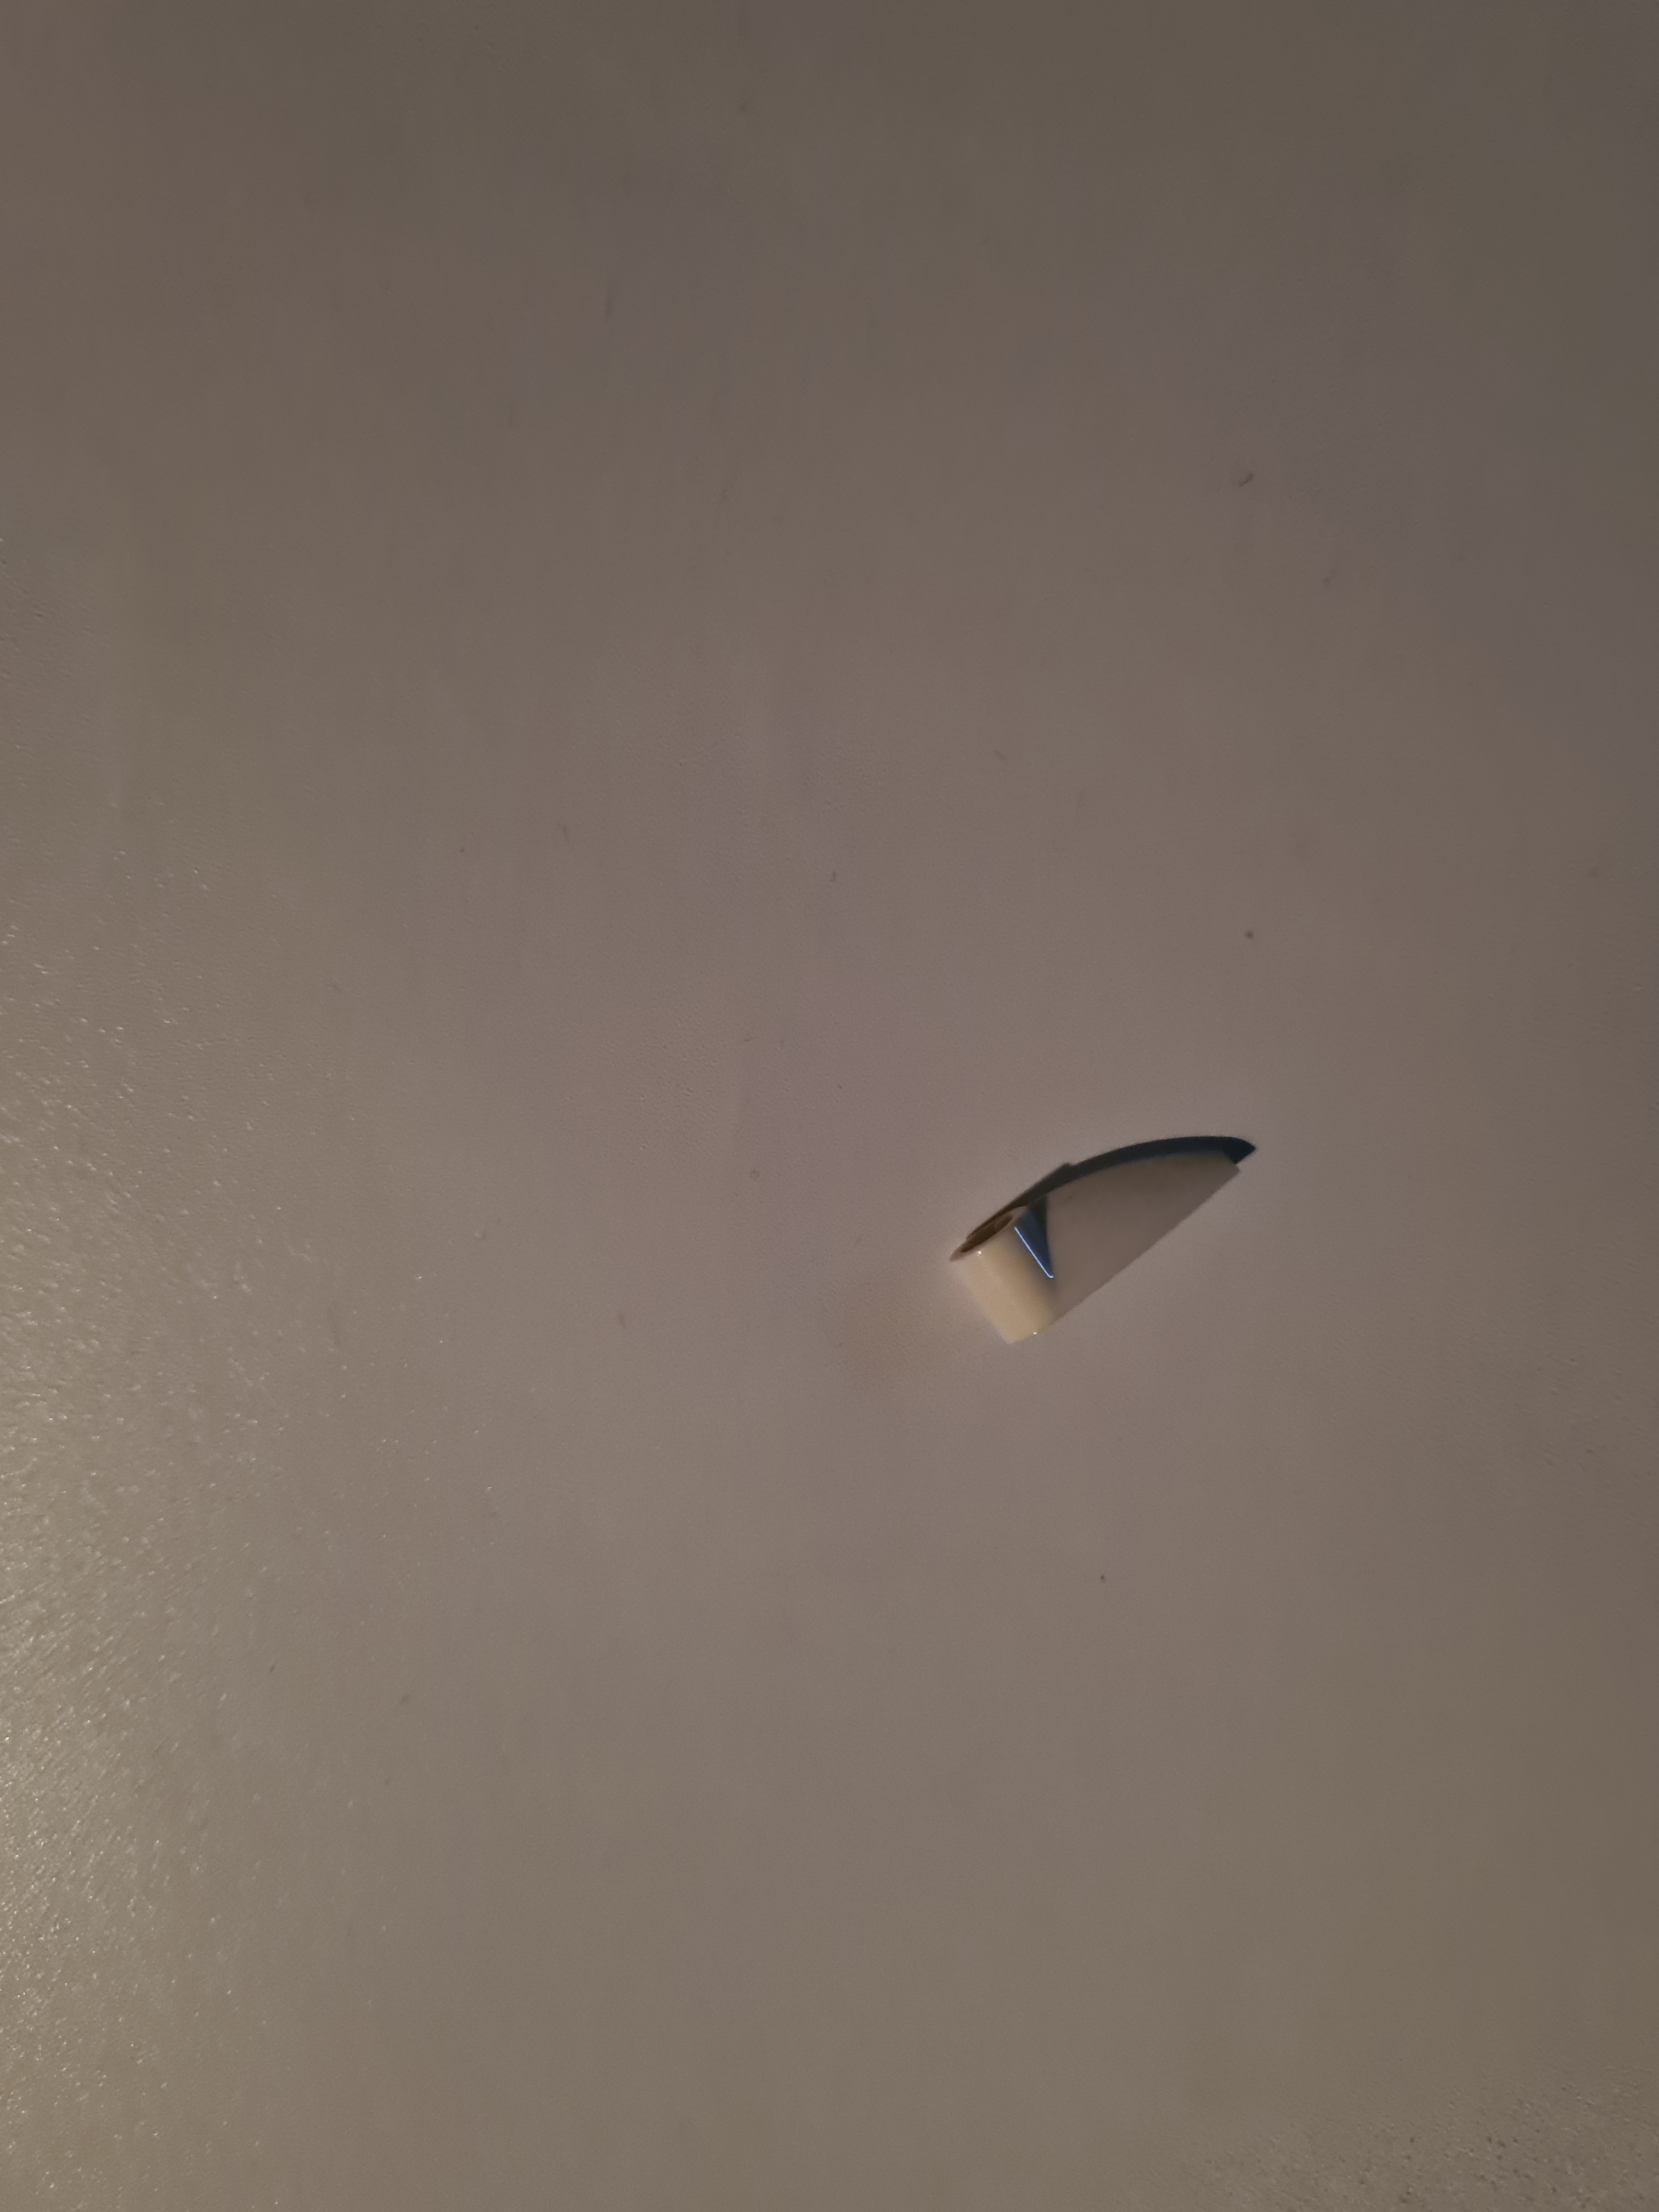Kappe: (929, 1071, 1281, 1395)
